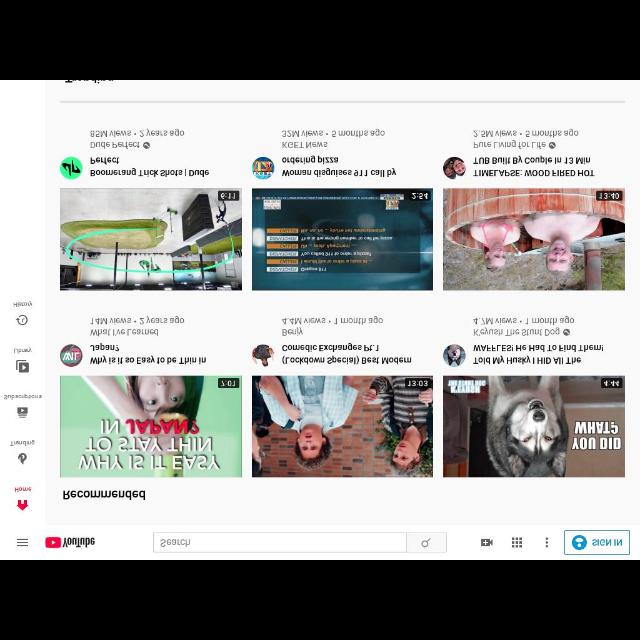button: (406, 532, 446, 552)
icon: (15, 358, 29, 374), (45, 536, 61, 548), (16, 499, 28, 511), (16, 314, 28, 326), (481, 538, 494, 548), (16, 538, 28, 548), (17, 407, 27, 419), (512, 537, 522, 549), (17, 454, 27, 464), (421, 538, 431, 548), (545, 536, 549, 548), (563, 328, 569, 336), (144, 142, 150, 148), (550, 142, 554, 148)
image: (59, 377, 242, 478), (443, 189, 624, 291), (61, 188, 241, 290), (253, 188, 432, 290), (253, 377, 433, 478), (443, 378, 624, 478), (444, 157, 466, 180), (60, 344, 82, 366), (252, 346, 274, 368), (60, 156, 82, 178), (443, 346, 465, 366), (252, 158, 274, 178), (572, 536, 586, 550)
input: (153, 533, 407, 551)
text: (474, 343, 604, 365), (472, 156, 594, 178), (90, 156, 210, 178), (282, 344, 412, 364), (282, 156, 396, 177), (90, 344, 206, 364), (282, 126, 384, 138), (472, 128, 580, 138), (473, 316, 575, 326), (63, 488, 147, 500), (282, 315, 382, 325), (90, 315, 186, 325), (90, 127, 184, 137), (472, 327, 560, 337), (90, 328, 160, 337), (473, 140, 547, 148), (282, 139, 328, 149), (90, 141, 140, 149), (64, 536, 95, 548), (3, 392, 42, 400), (161, 538, 191, 548), (592, 538, 622, 546), (282, 327, 302, 337), (13, 300, 33, 308), (10, 440, 36, 446), (14, 485, 32, 493), (13, 346, 31, 354)
textbutton: (566, 530, 630, 554)
toolbar: (1, 524, 639, 560)
